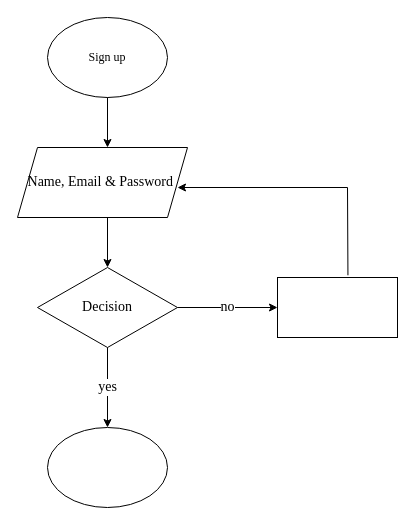
This 415x525 diagram has some shape labels left out. The shapes that lost their labels are listed below. From the top down, each one's centre as x and y in pixels, then its label:
the point at 337,307: Invalid Details
the point at 107,467: Sign Up Successful
